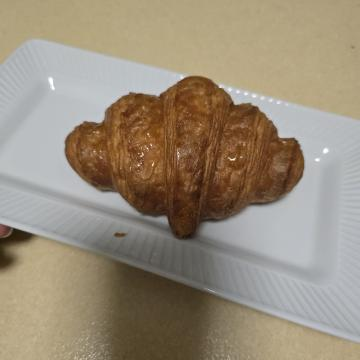croissant: (65, 51, 245, 304)
